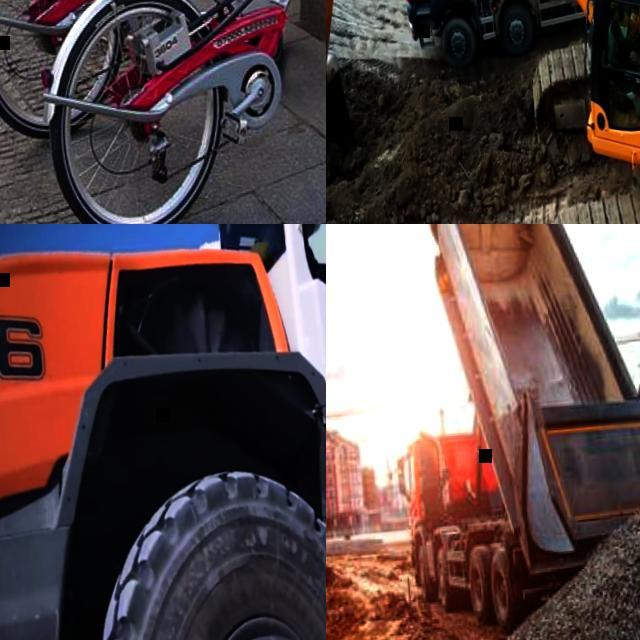machinery: (0, 224, 326, 640), (372, 224, 640, 640), (326, 0, 640, 224), (384, 0, 640, 71)
person: (613, 10, 640, 99), (298, 224, 326, 281)
